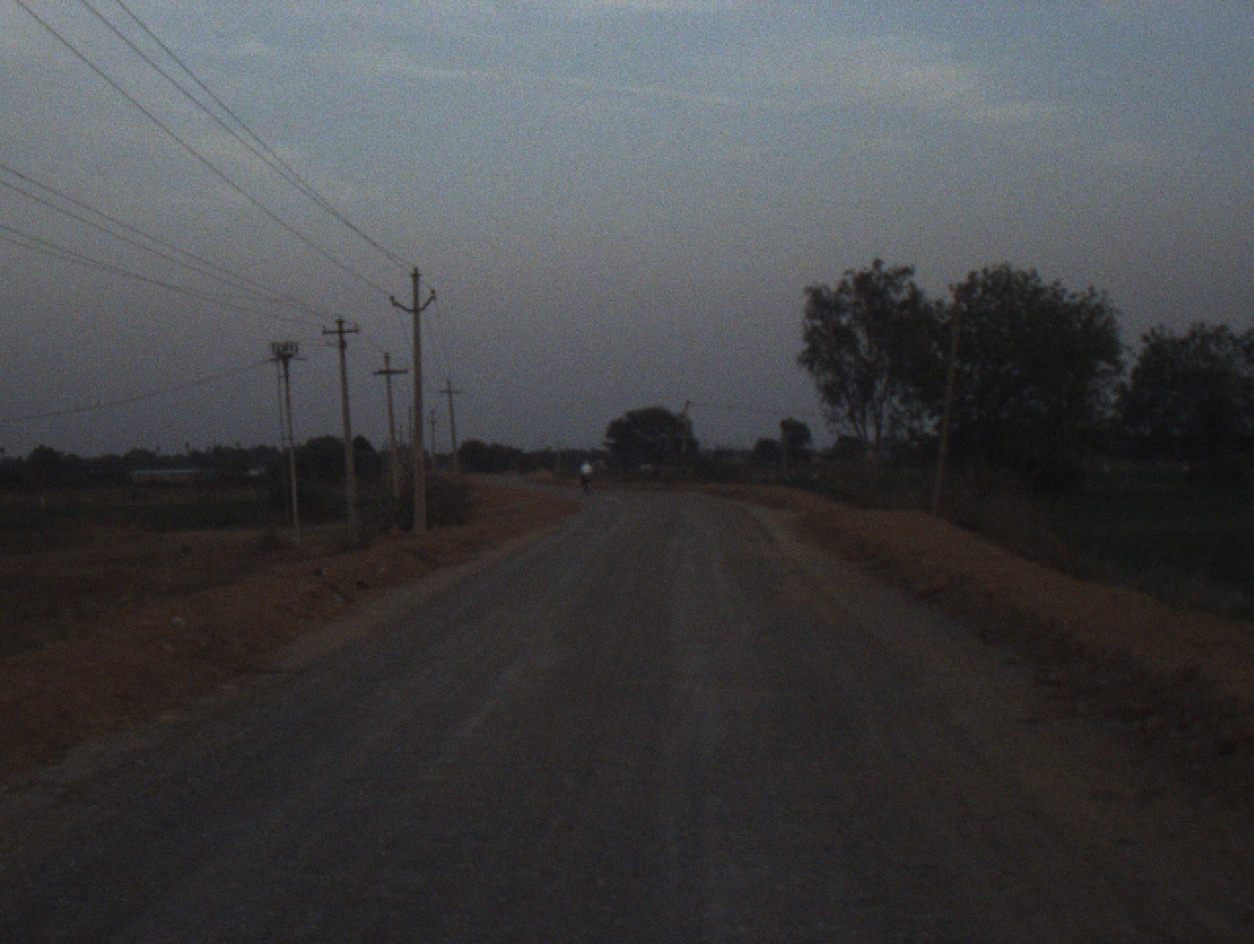bicycle: (581, 474, 592, 497)
rider: (576, 458, 592, 485)
train: (125, 466, 271, 484)
